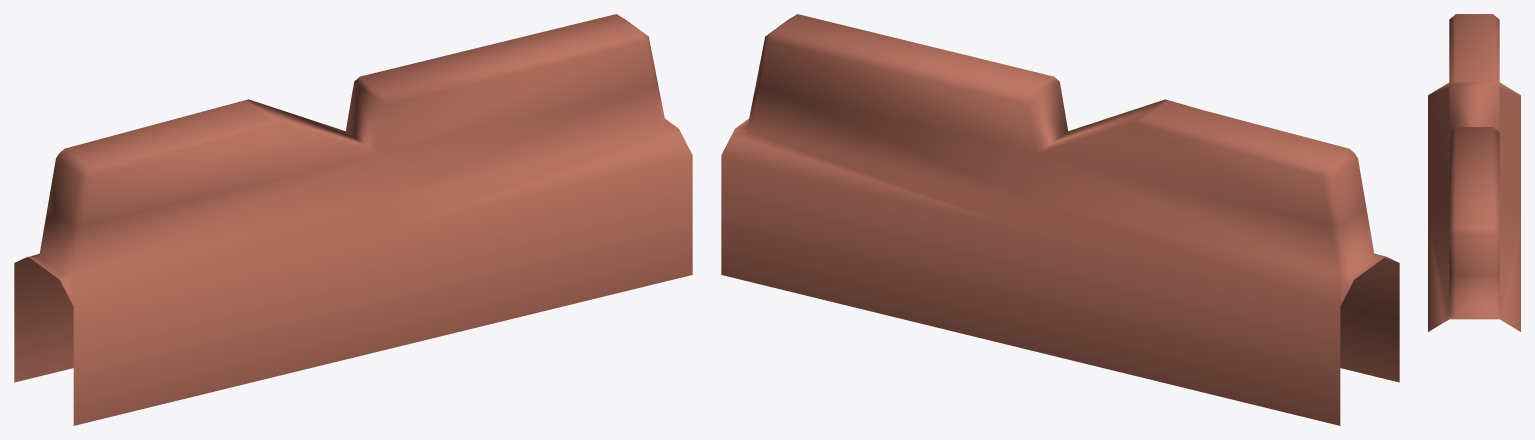
Rendered from SM_barricade_05.fbx.
3 renders of one model, left to right at view 1: azimuth 30°, elevation 25°; view 2: azimuth 150°, elevation 25°; view 3: azimuth 270°, elevation 25°, orthographic. The views are drawn at different scales.
Parts seen in each view (by area): view 1: barricade_04; view 2: barricade_04; view 3: barricade_04.
Boxes of the visible parts, <box> form: barricade_04: <box>14,14,692,425</box>; barricade_04: <box>721,14,1399,425</box>; barricade_04: <box>1428,14,1520,331</box>.
Bounding box in the file's own units: 468 × 175 × 77.68.
